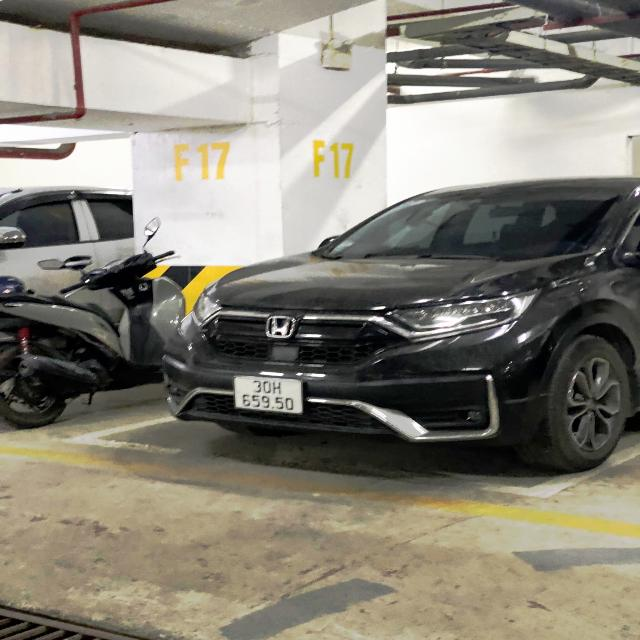license_plate: (231, 377, 306, 417)
